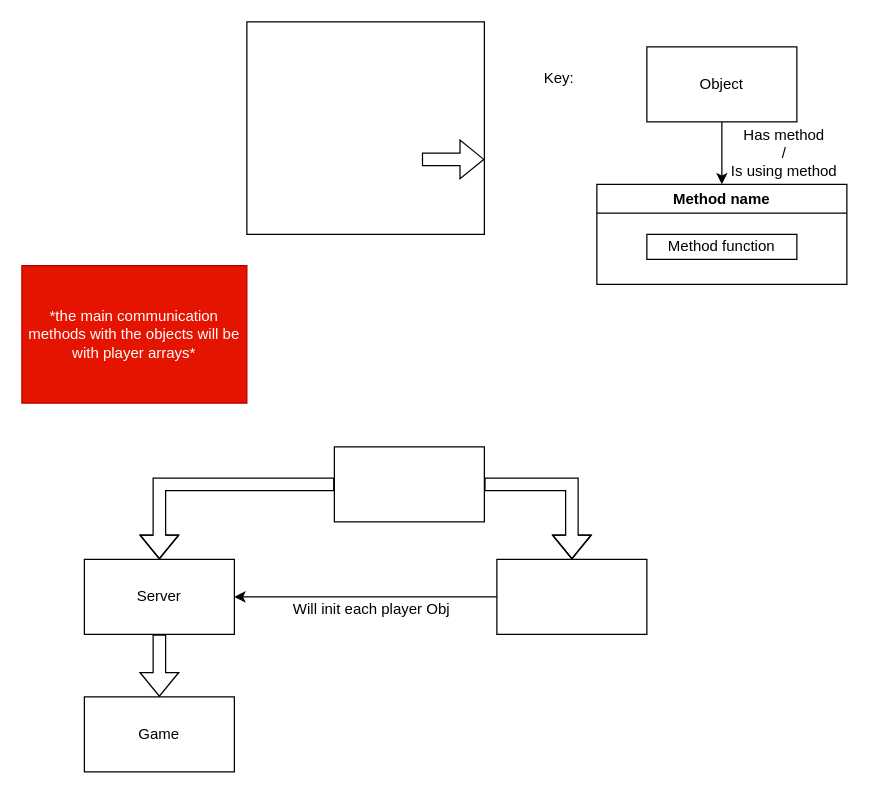
This 869x794 diagram has some shape labels left out. The centre of each missing label's shape, as x and y in pixels:
Client x4: point 571,596
Main: point 408,484
Second key: Contains an instance of:: point 365,127
